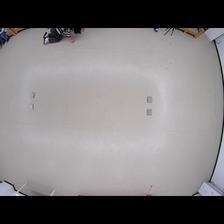fall: (42, 27, 85, 43)
